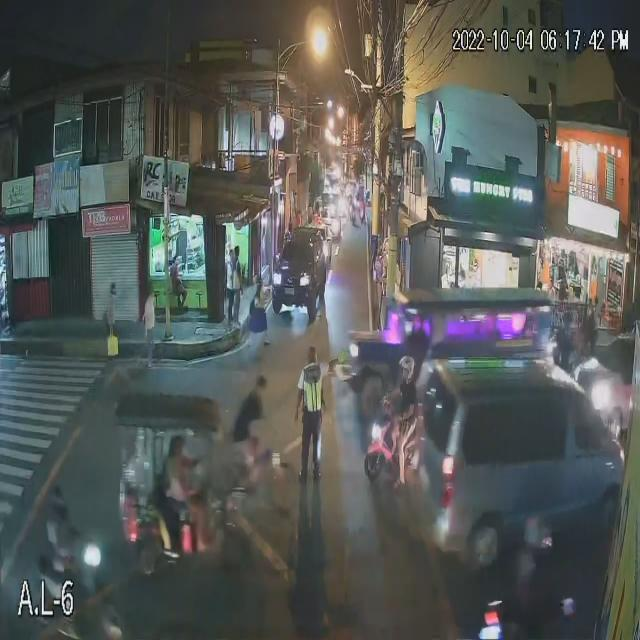motorcycle: (45, 552, 135, 629)
